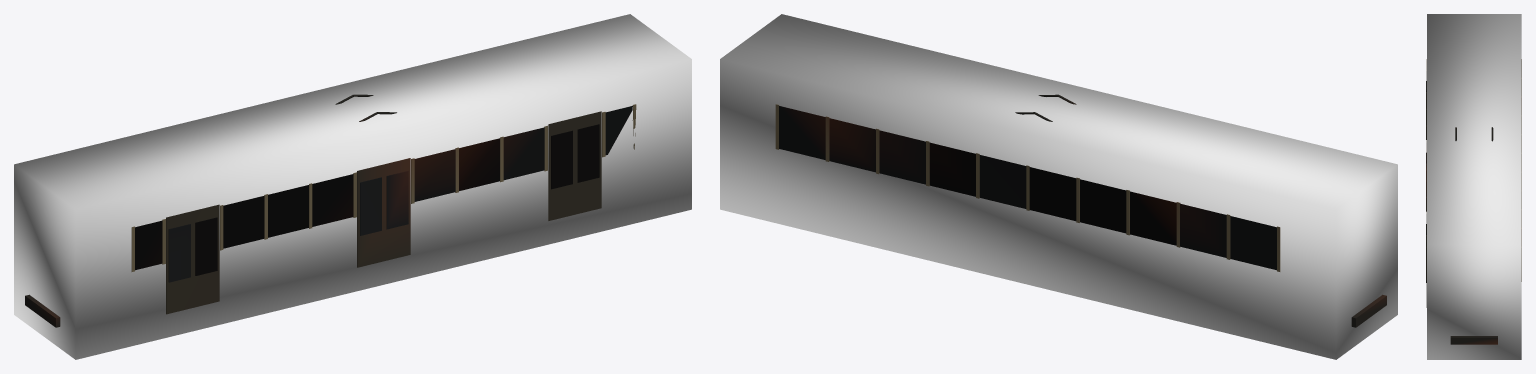
The model's file is tranvia.glb.
The picture shows the model from 3 angles, left to right: view 1: azimuth 30°, elevation 25°; view 2: azimuth 150°, elevation 25°; view 3: azimuth 270°, elevation 25°; orthographic projection. The views are drawn at different scales.
Visible parts, largest first — view 1: tranvia-colcaja, tranvia; view 2: tranvia-colcaja, tranvia; view 3: tranvia-colcaja, tranvia.
Part boxes in pixels (left/top/right/bottom): tranvia-colcaja: left=14, top=14, right=691, bottom=359; tranvia: left=25, top=94, right=636, bottom=327; tranvia-colcaja: left=720, top=14, right=1397, bottom=359; tranvia: left=775, top=94, right=1386, bottom=327; tranvia-colcaja: left=1427, top=14, right=1521, bottom=359; tranvia: left=1426, top=59, right=1521, bottom=344.
Bounding box in the file's own units: 15.21 × 3.62 × 2.64.
